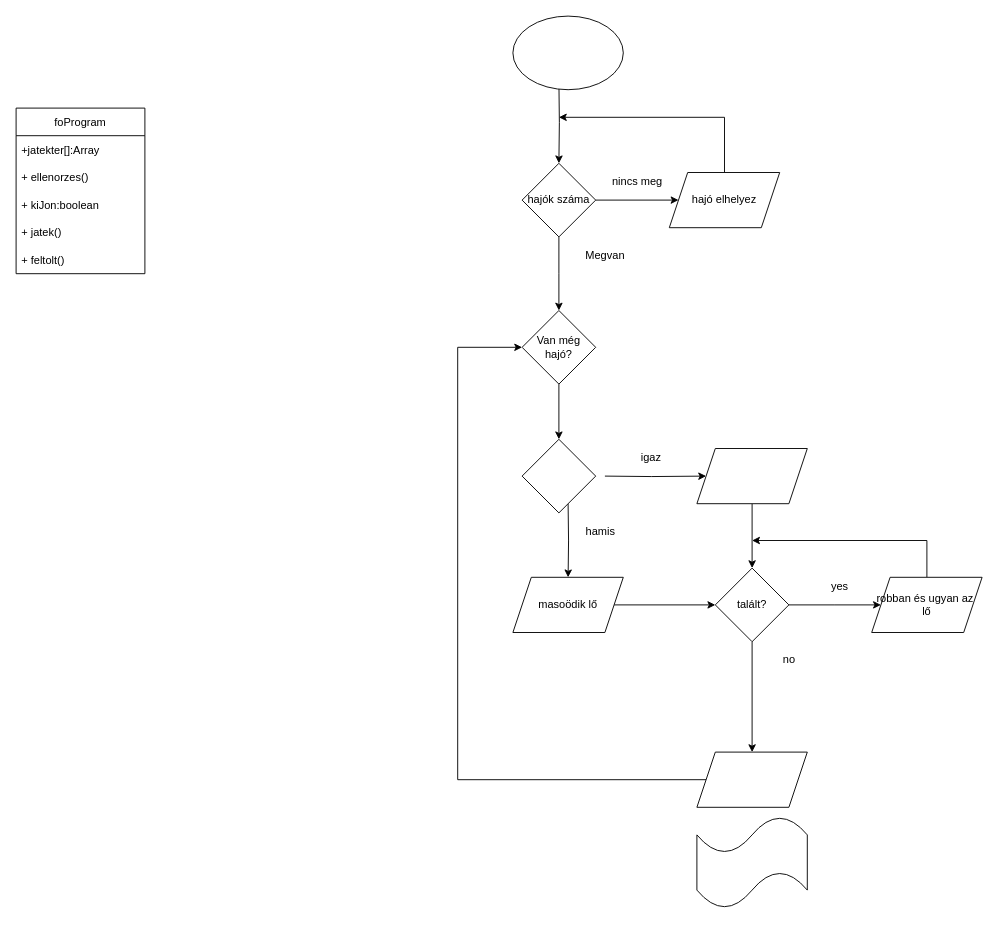
Image size: 998x925. Some labels were removed from this diagram. Here are the shapes that lost their labels. From the top down, the centre of each, then its label:
(x=567, y=52): Start
(x=558, y=475): Ki lő?
(x=751, y=476): első lő
(x=751, y=779): ujra
